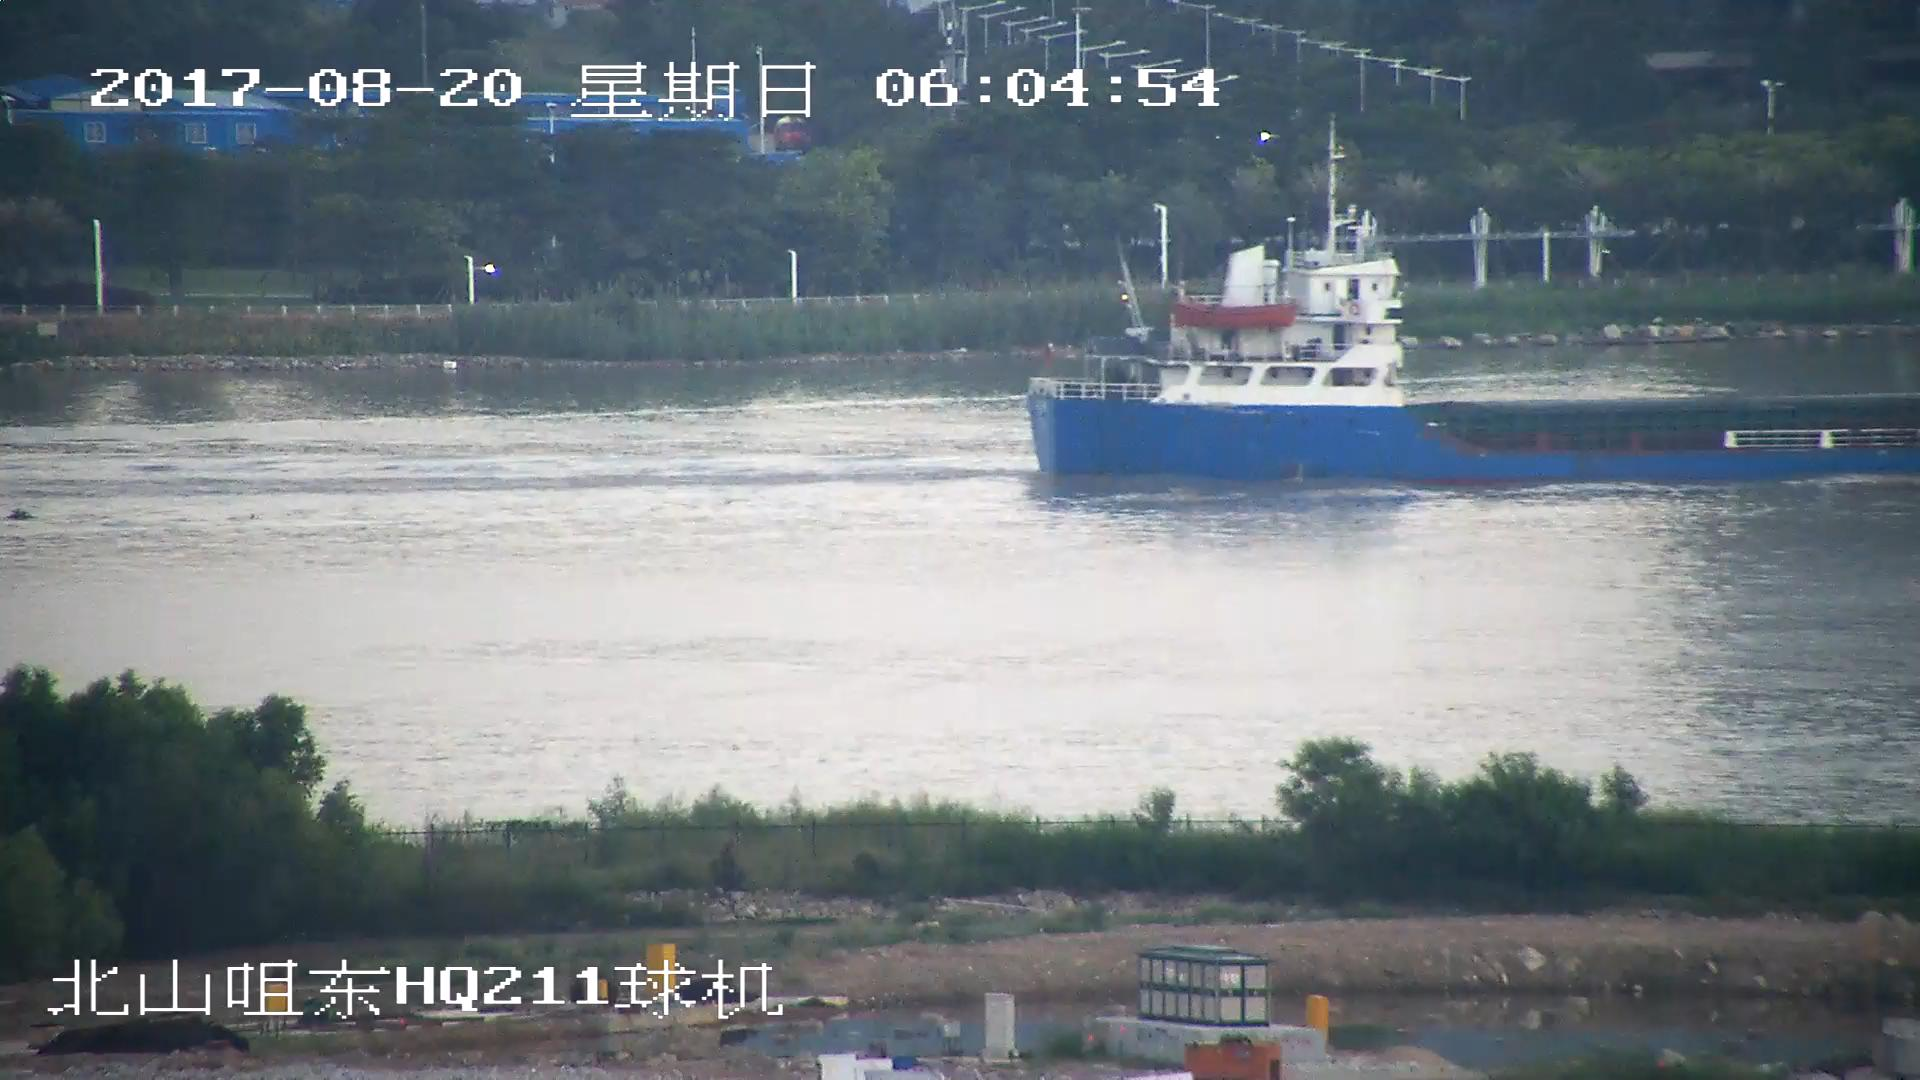general cargo ship: (1033, 214, 1920, 486)
